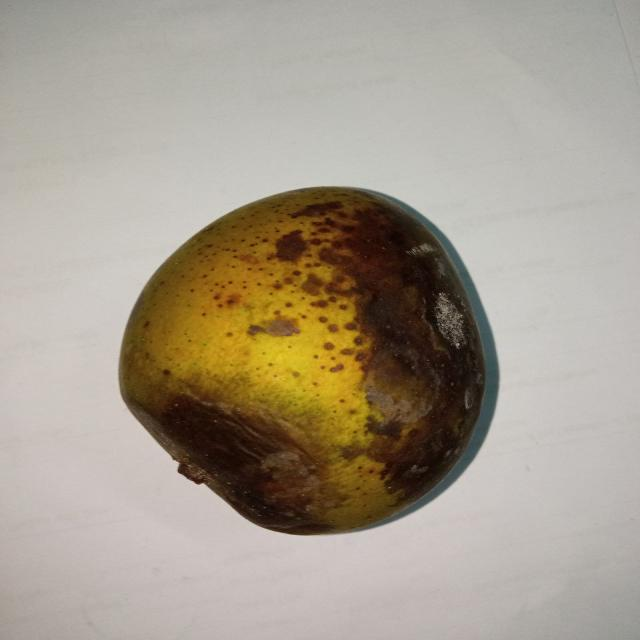rotten_mango: (111, 186, 485, 532)
